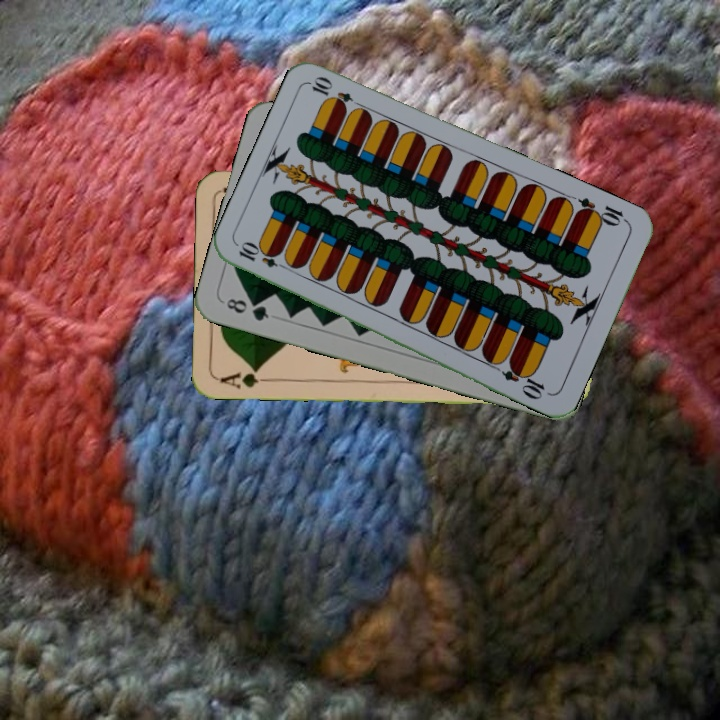E10: (572, 193, 631, 229), (234, 240, 292, 273)
G8: (222, 294, 272, 324)
GA: (216, 364, 275, 391)
